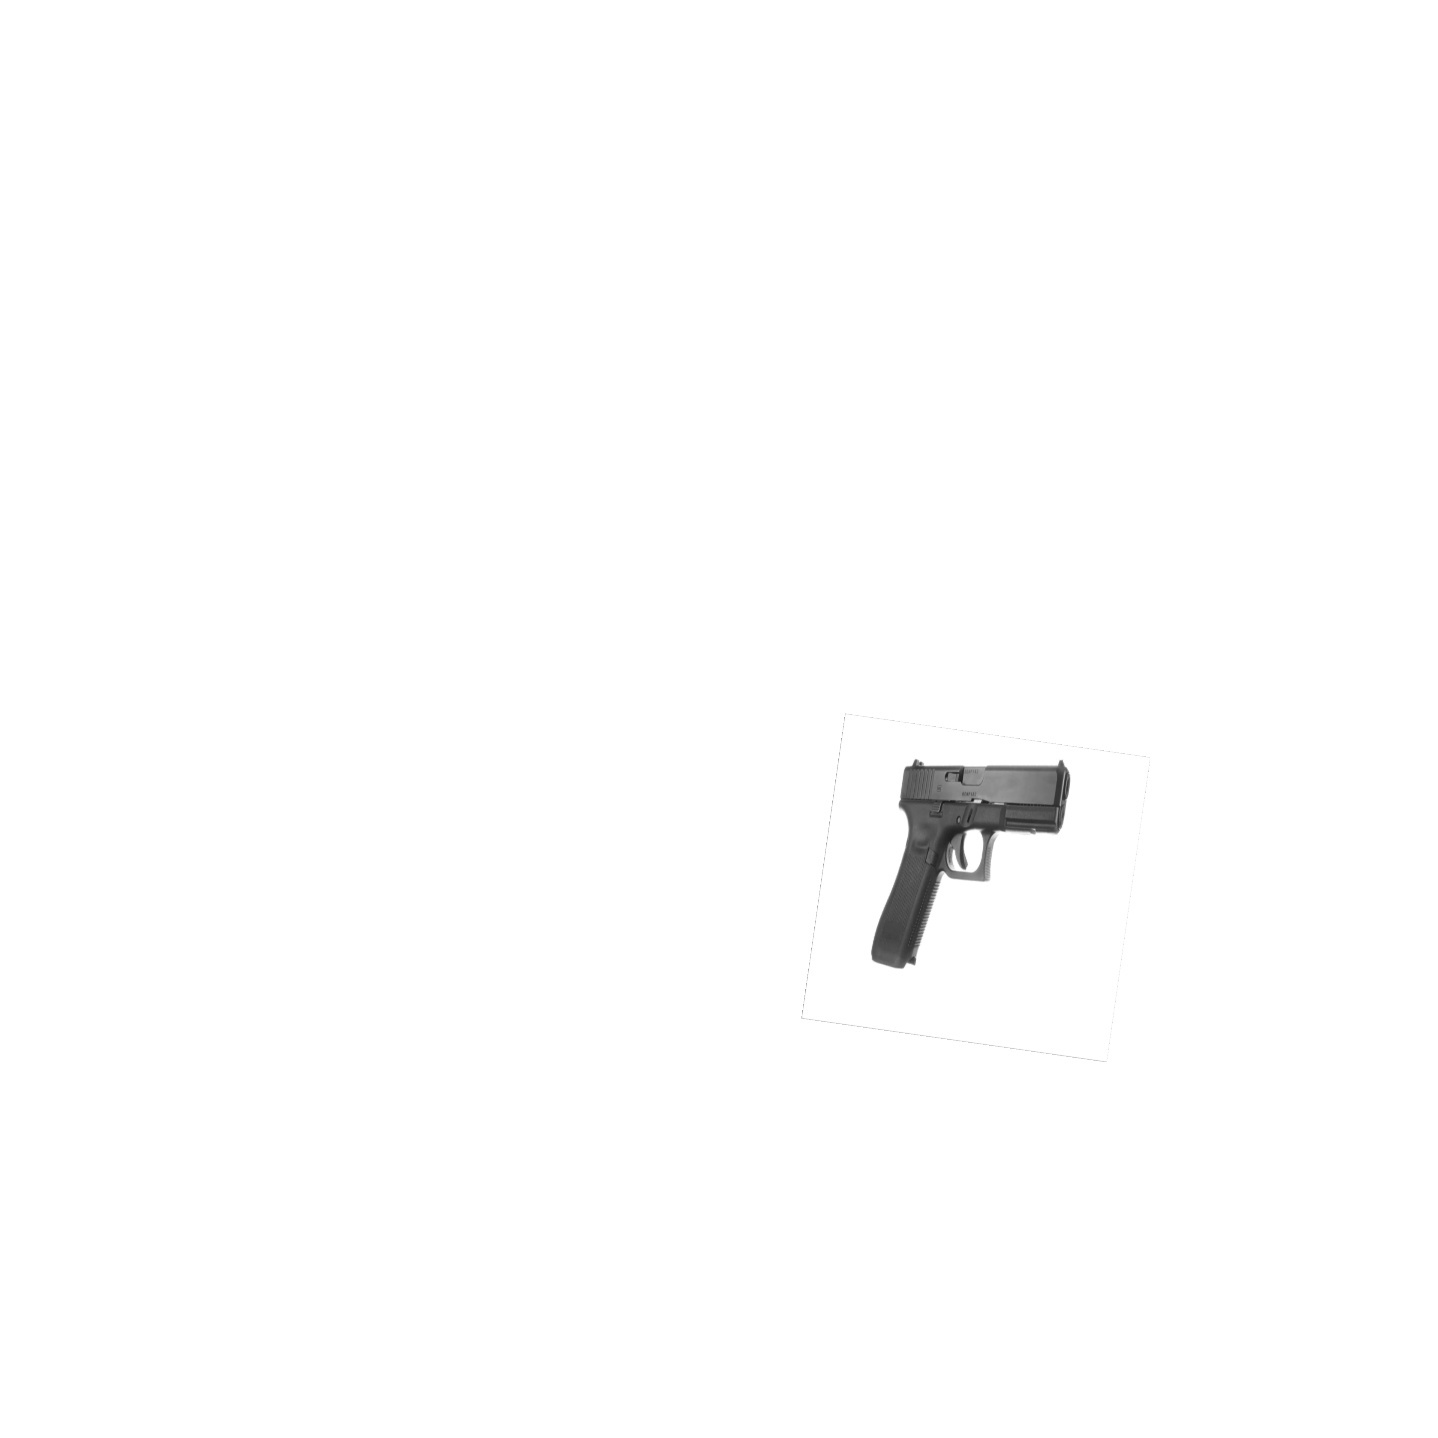gun: (860, 752, 1081, 978)
